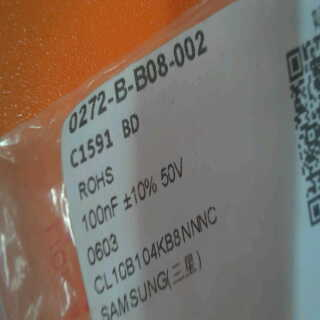100nF: (67, 191, 122, 235)
